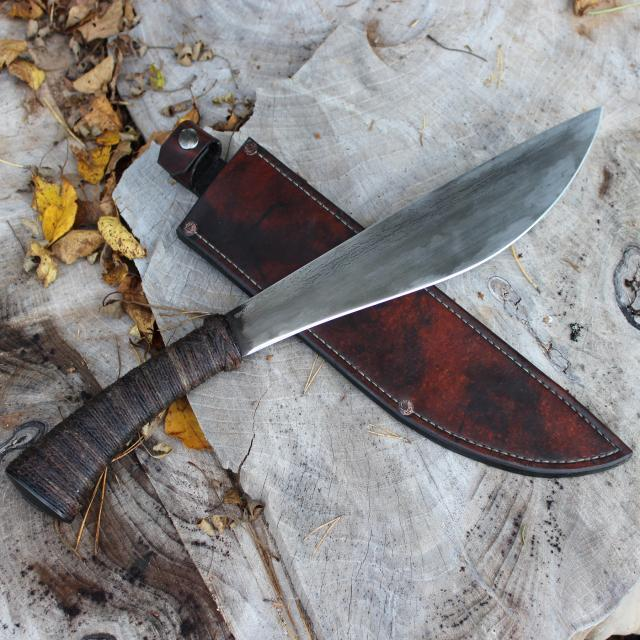short sword: (5, 102, 614, 543)
